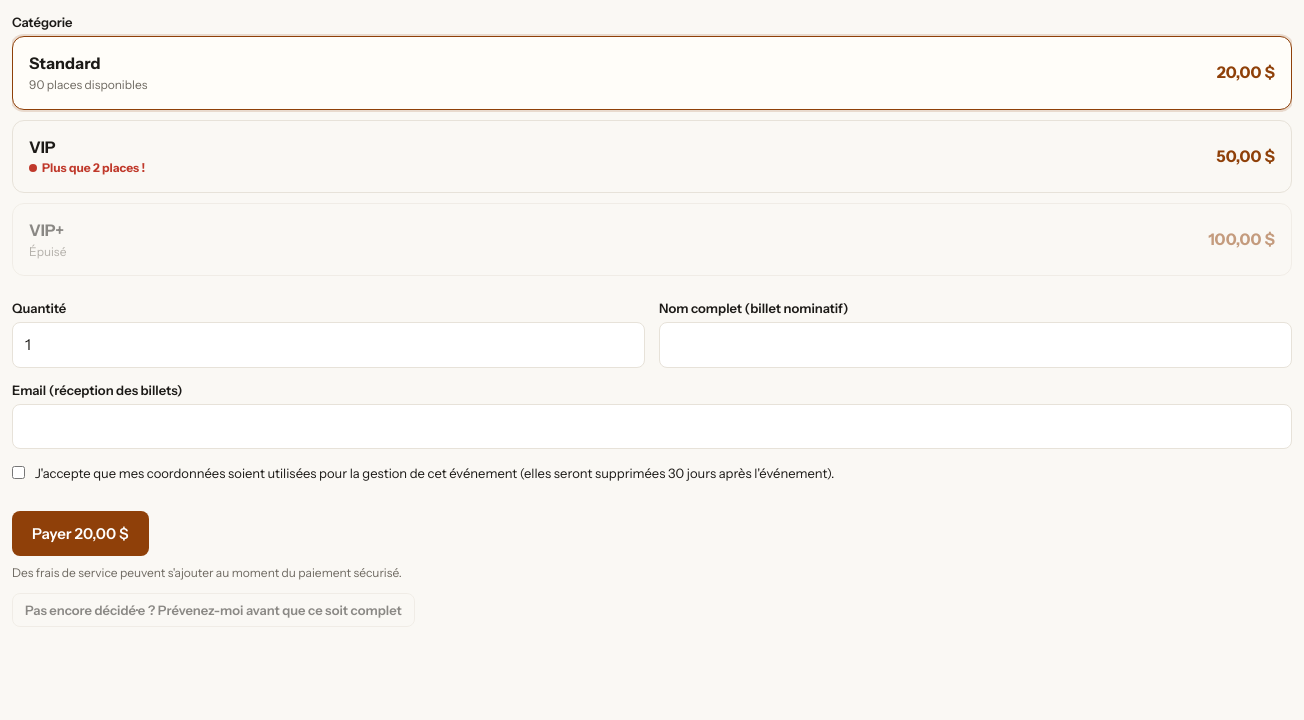
Test: CheckoutForm › bascule en liste d'attente pour une catégorie épuisée
Click the radio button labelled "VIP+ Épuisé 100,00 $" at (652, 240), box [12,203,1292,276]
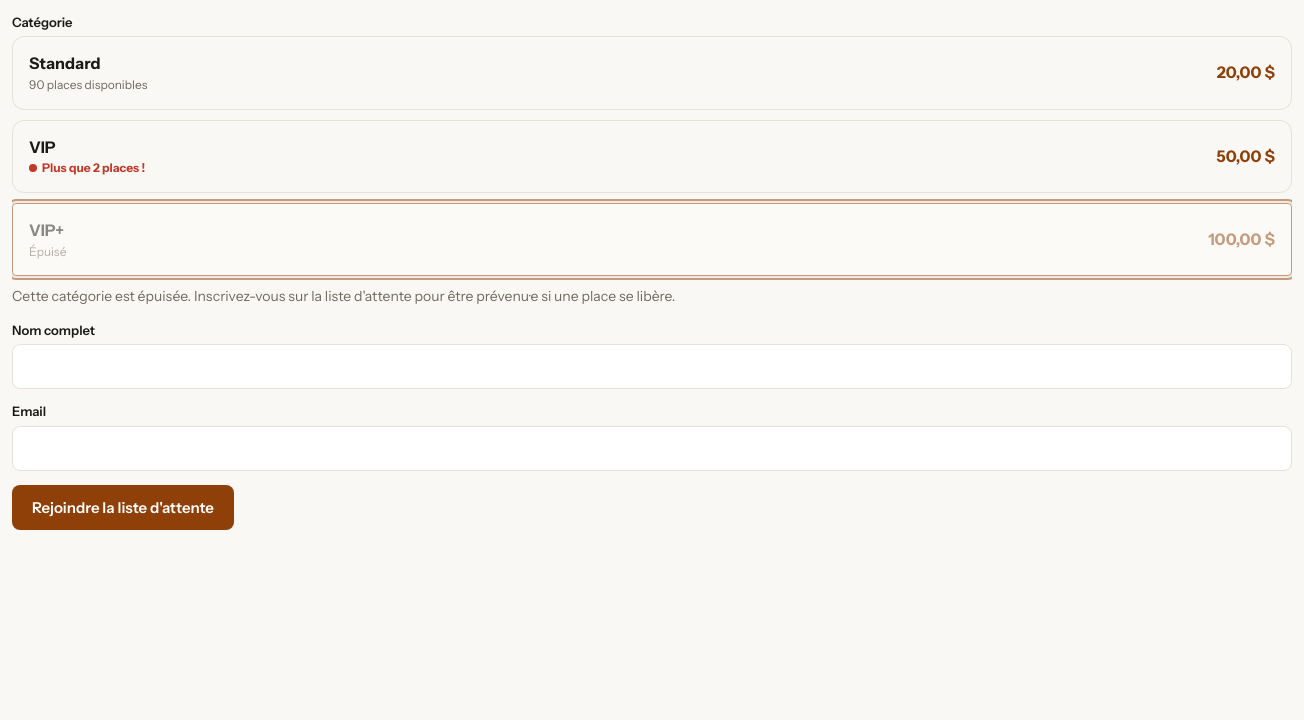
Expected: the text "Épuisé" is shown, [29,243,66,261]
Expected: the button "Rejoindre la liste d'attente" is shown, [12,485,234,530]
